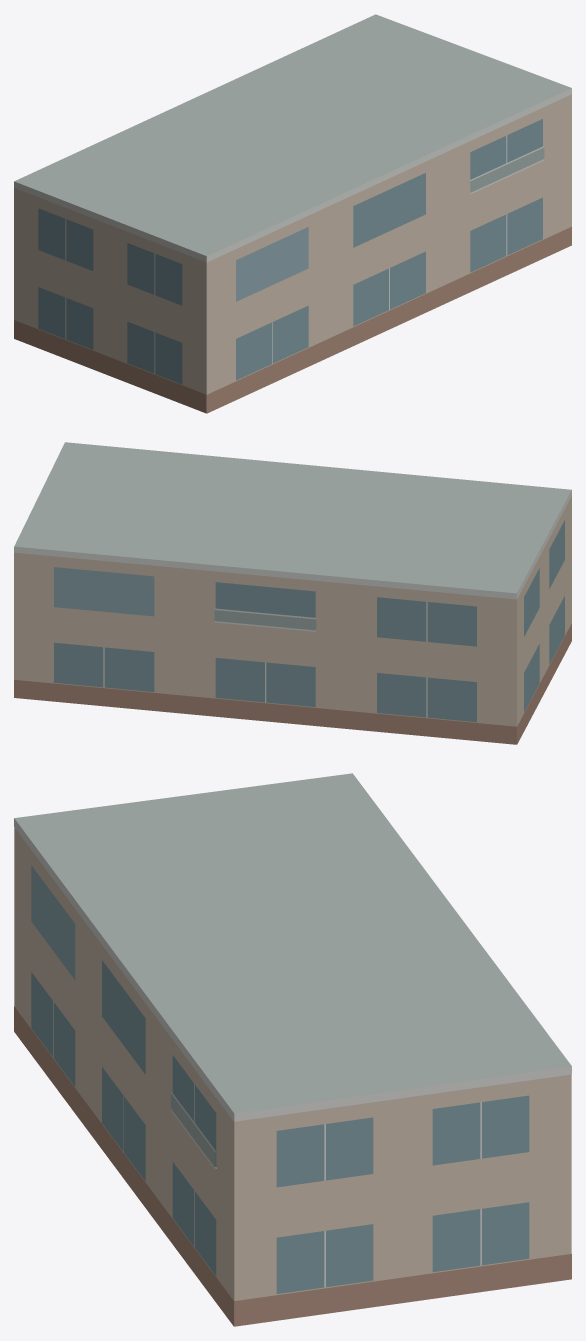
File: survey-upis-32978877.glb
The picture shows the model from 3 angles, top to bottom: view 1: azimuth 30°, elevation 25°; view 2: azimuth 150°, elevation 25°; view 3: azimuth 270°, elevation 25°; orthographic projection. The views are drawn at different scales.
Visible parts, largest first — view 1: survey-upis-32978877.tmp; view 2: survey-upis-32978877.tmp; view 3: survey-upis-32978877.tmp.
Boxes of the visible parts, left/top/right/bottom form: survey-upis-32978877.tmp: left=14, top=14, right=571, bottom=413; survey-upis-32978877.tmp: left=14, top=442, right=571, bottom=744; survey-upis-32978877.tmp: left=14, top=773, right=571, bottom=1326.
Size of the model in its own units: 20.86 by 6.1 by 14.46.
